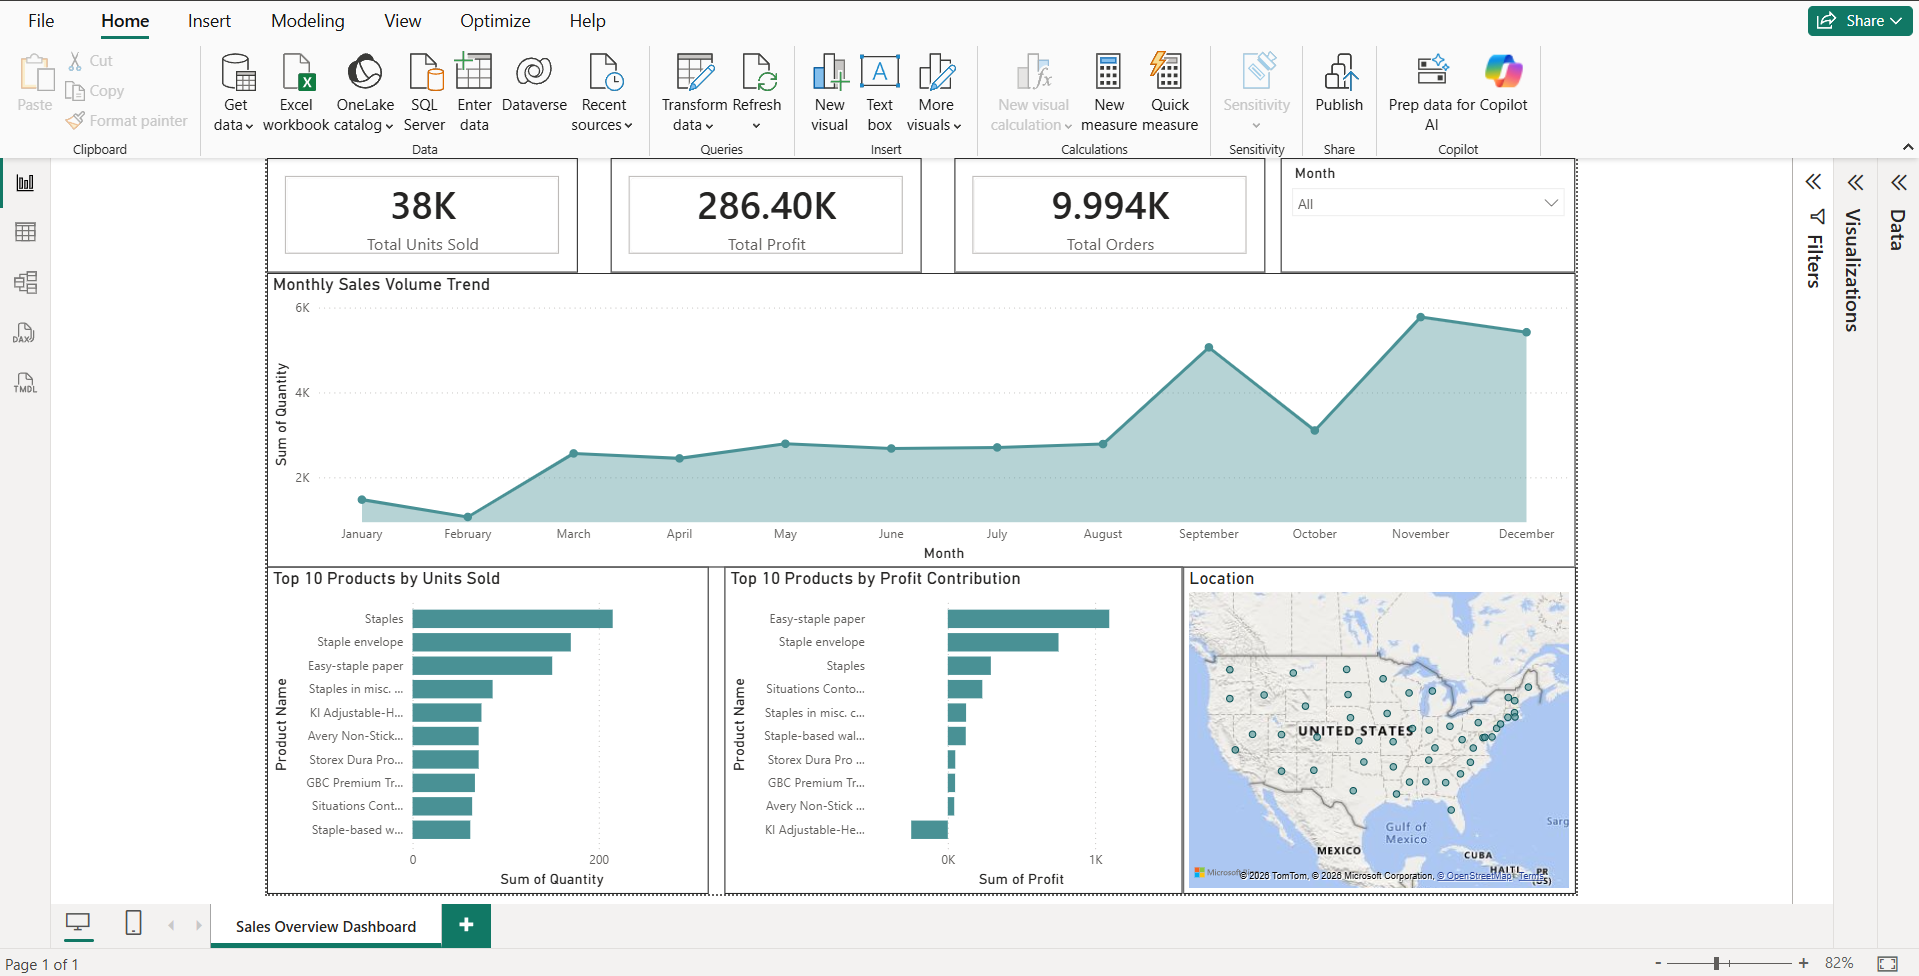

The dashboard page shown, as its layout file describes it:
{"tool":"powerbi","page":{"name":"Sales Overview Dashboard","canvas":[1280,720],"ordinal":0},"visuals":[{"type":"cardVisual","fields":{"Data":["Sum(Retail Sales Insights Dashboard.Quantity)"]},"box":[0,0,304,112],"z":0},{"type":"cardVisual","fields":{"Data":["CountNonNull(Retail Sales Insights Dashboard.Order ID)"]},"box":[672,0,304,112],"z":2000},{"type":"lineChart","title":"Monthly Sales Volume Trend","fields":{"Y":["Sum(Retail Sales Insights Dashboard.Quantity)"],"Category":["Retail Sales Insights Dashboard.Order Date.Variation.Date Hierarchy.Month"]},"box":[0,112,1280,288],"z":3000},{"type":"barChart","title":"Top 10 Products by Units Sold","fields":{"Category":["Retail Sales Insights Dashboard.Product Name"],"Y":["Sum(Retail Sales Insights Dashboard.Quantity)"]},"box":[0,400,432,320],"z":4000},{"type":"barChart","title":"Top 10 Products by Profit Contribution","fields":{"Category":["Retail Sales Insights Dashboard.Product Name"],"Y":["Sum(Retail Sales Insights Dashboard.Profit)"]},"box":[448,400,448,320],"z":5000},{"type":"slicer","fields":{"Values":["Retail Sales Insights Dashboard.Order Date.Variation.Date Hierarchy.Month"]},"box":[992,0,288,112],"z":6000},{"type":"map","fields":{"Category":["Retail Sales Insights Dashboard.Location"]},"box":[896,400,384,320],"z":7000},{"type":"cardVisual","fields":{"Data":["Sum(Retail Sales Insights Dashboard.Profit)"]},"box":[336,0,304,112],"z":7001}]}

Visuals, with their boxes on the page's 1280x720 design canvas (x1, y1, x2, y2). These are canvas units, not pixel positions in the 1919x976 screenshot, which may show the page scaled, cropped or inside an application window:
cardVisual - Sum(Retail Sales Insights Dashboard.Quantity): detection(0, 0, 304, 112)
cardVisual - CountNonNull(Retail Sales Insights Dashboard.Order ID): detection(672, 0, 976, 112)
"Monthly Sales Volume Trend" lineChart: detection(0, 112, 1280, 400)
"Top 10 Products by Units Sold" barChart: detection(0, 400, 432, 720)
"Top 10 Products by Profit Contribution" barChart: detection(448, 400, 896, 720)
slicer - Retail Sales Insights Dashboard.Order Date.Variation.Date Hierarchy.Month: detection(992, 0, 1280, 112)
map - Retail Sales Insights Dashboard.Location: detection(896, 400, 1280, 720)
cardVisual - Sum(Retail Sales Insights Dashboard.Profit): detection(336, 0, 640, 112)
